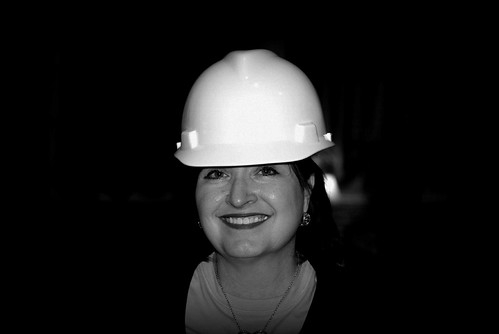person hardhat: (151, 52, 373, 334)
